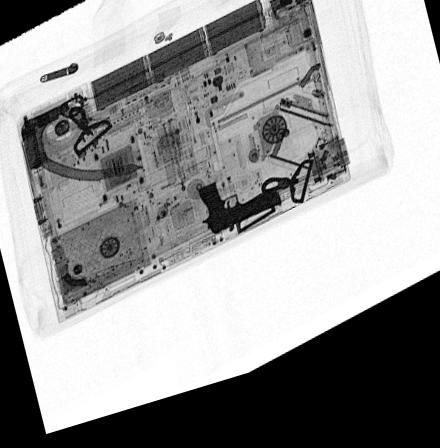Gun: (198, 192, 282, 247)
